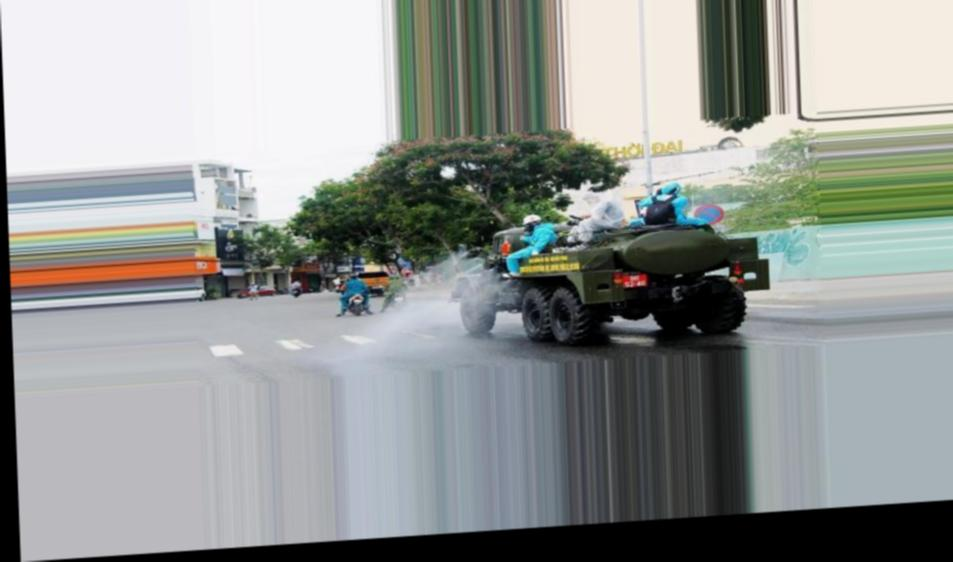License_Plate: (618, 271, 649, 290)
